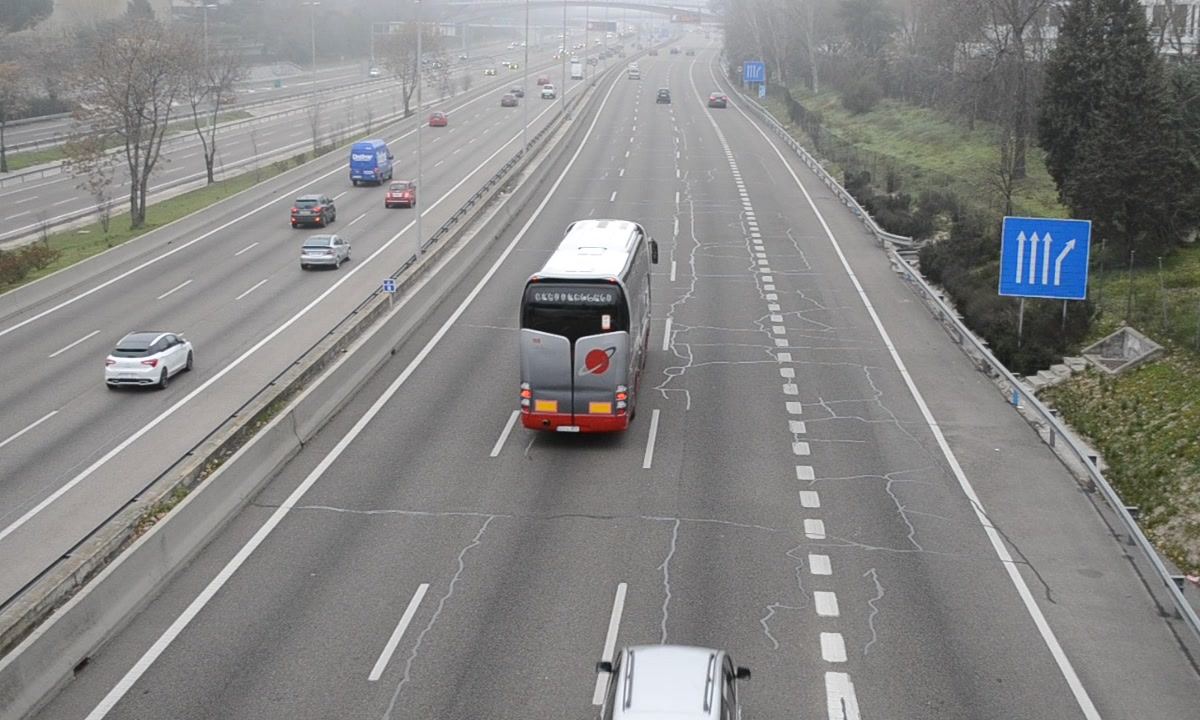bus: (519, 219, 653, 439)
car: (707, 91, 728, 110)
